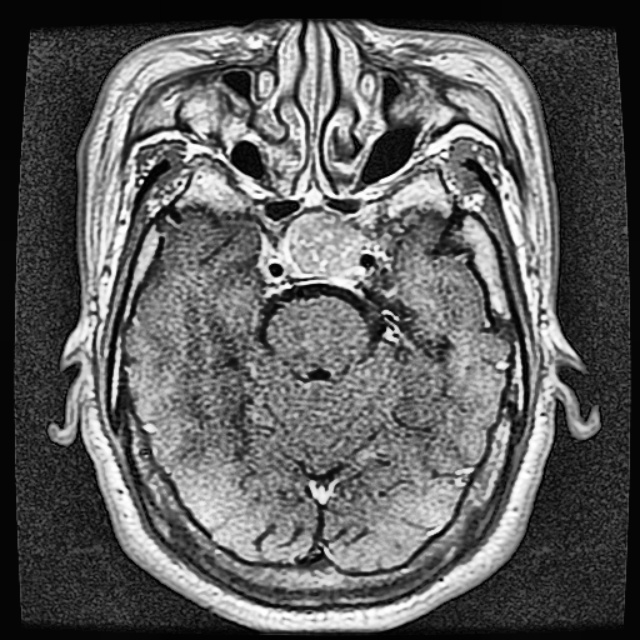Pituitary: (287, 209, 375, 279)
